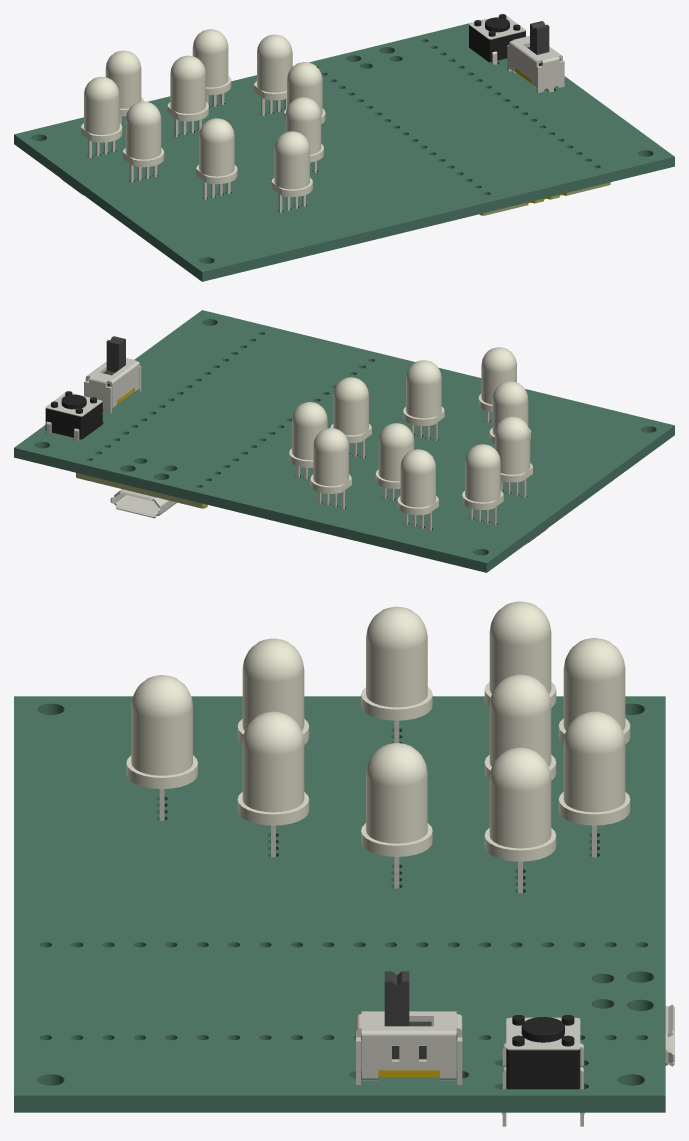
The model's file is LightBoard-Gift.glb.
3 renders of one model, top to bottom at view 1: azimuth 30°, elevation 25°; view 2: azimuth 150°, elevation 25°; view 3: azimuth 270°, elevation 25°, orthographic. The views are drawn at different scales.
Visible parts, largest first — view 1: =>[0:1:1:7], SW2, D7, D8, D5, D0, D6, D2, D1, SW1, D9, D4 (+2 smaller); view 2: =>[0:1:1:7], SW2, D1, D9, D8, D4, D7, D3, SW1, D0, D2, RaspberryPi_Pico_Module_KiCad (+2 smaller); view 3: =>[0:1:1:7], SW2, D2, D4, D1, D3, D5, D7, SW1, D9, D6, D8 (+1 smaller).
Boxes of the visible parts, x1,y1,x2,y2 form: =>[0:1:1:7]: (14, 19, 674, 281); SW2: (507, 21, 564, 92); D7: (123, 101, 164, 182); D8: (81, 76, 122, 157); D5: (271, 131, 312, 212); D0: (167, 55, 208, 136); D6: (196, 118, 237, 199); D2: (254, 34, 292, 115); D1: (192, 29, 231, 106); SW1: (469, 14, 525, 64); D9: (105, 50, 143, 124); D4: (285, 97, 323, 172); =>[0:1:1:7]: (14, 310, 674, 572); SW2: (84, 336, 141, 413); D1: (310, 428, 351, 509); D9: (397, 449, 438, 530); D8: (462, 444, 503, 525); D4: (403, 360, 444, 441); D7: (494, 416, 532, 497); D3: (330, 377, 371, 458); SW1: (45, 391, 102, 441); D0: (375, 423, 414, 500); D2: (289, 402, 327, 479); RaspberryPi_Pico_Module_KiCad: (76, 473, 207, 518); =>[0:1:1:7]: (14, 696, 665, 1112); SW2: (356, 971, 462, 1084); D2: (484, 747, 556, 893); D4: (237, 711, 309, 857); D1: (558, 711, 630, 857); D3: (361, 743, 432, 888); D5: (126, 675, 197, 820); D7: (361, 606, 432, 742); SW1: (502, 1015, 584, 1126); D9: (558, 638, 630, 744); D6: (237, 638, 309, 744); D8: (484, 601, 556, 707).
Size of the model in its own units: 0.0765 by 0.017 by 0.0535.
